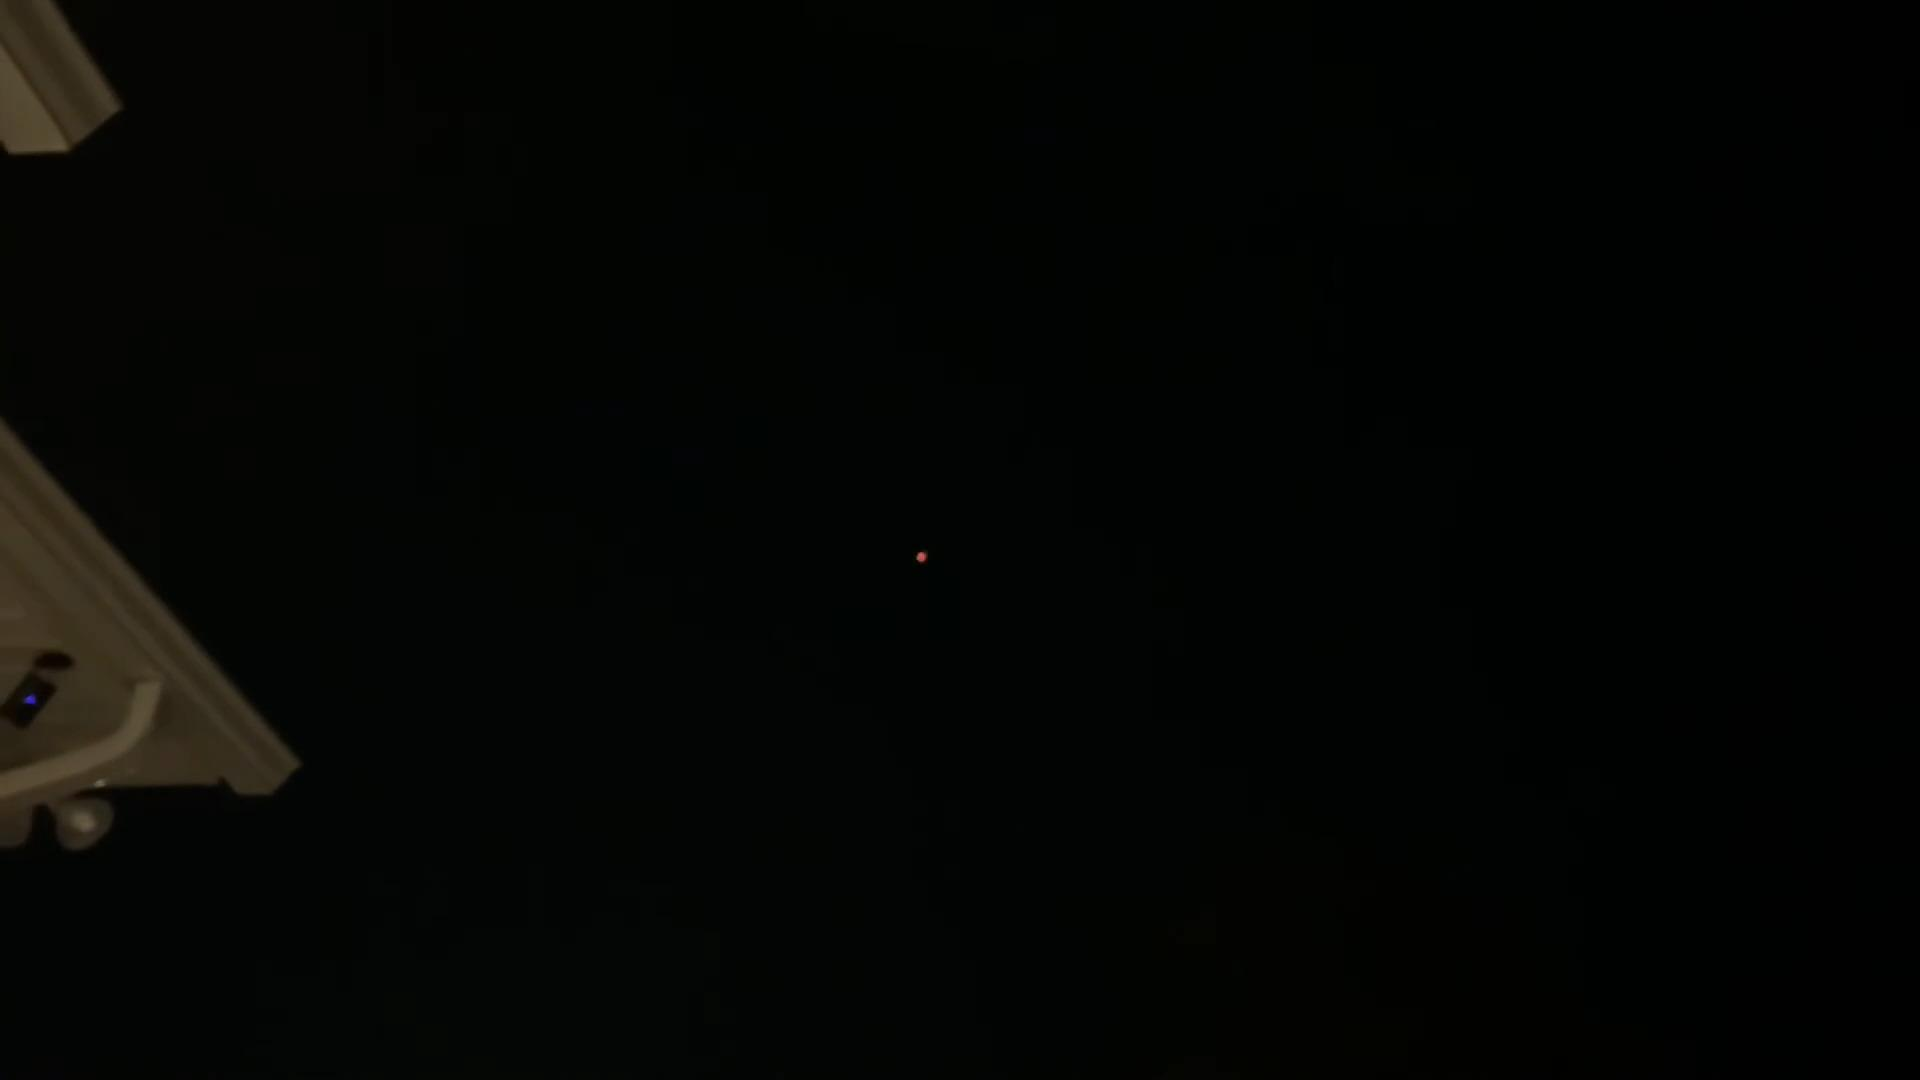Plane: (889, 538, 952, 582)
